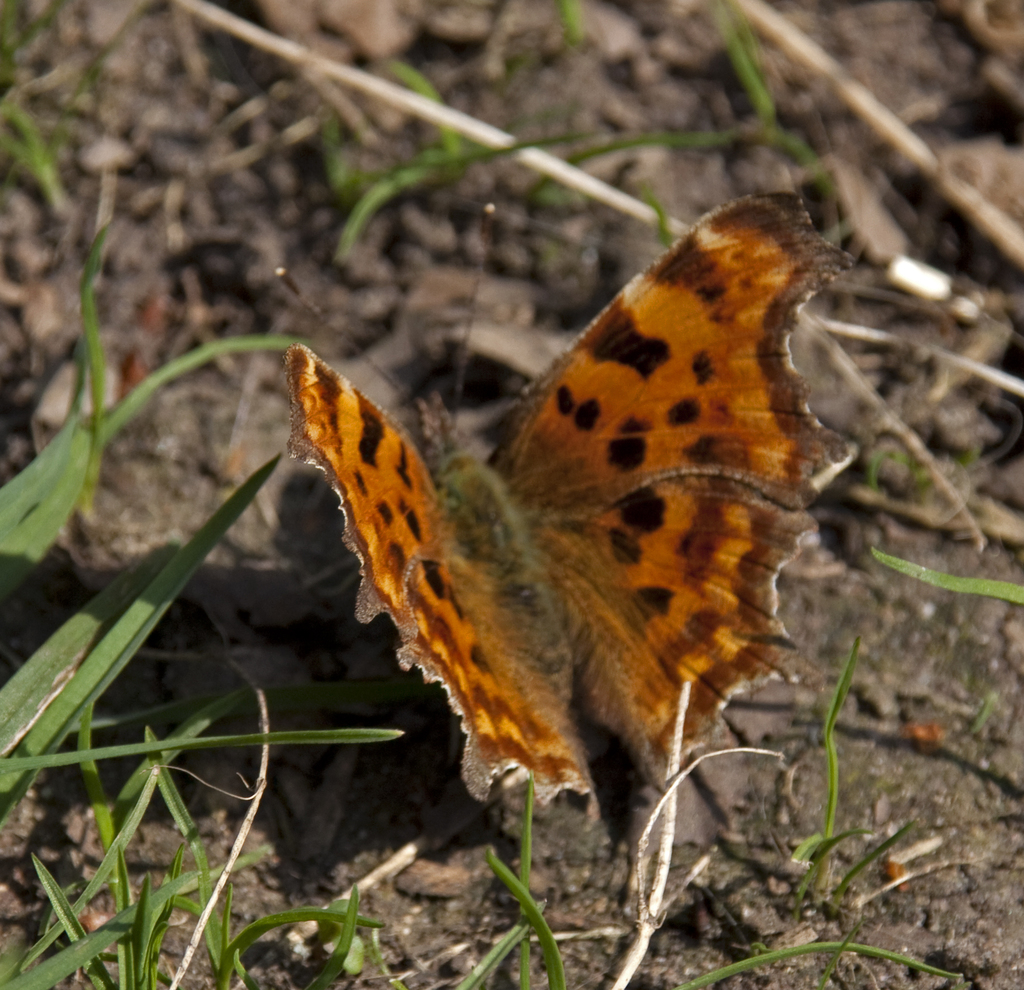Butterfly: (246, 230, 832, 820)
